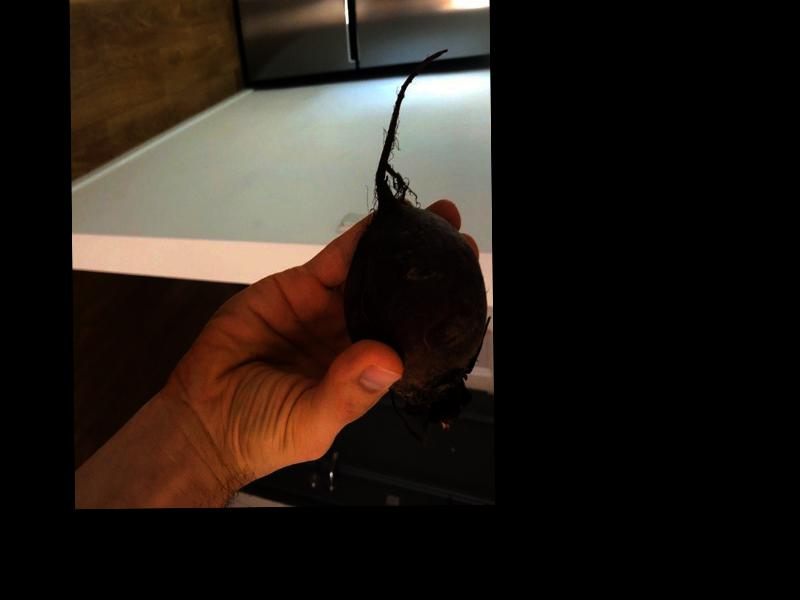Beet: (344, 50, 491, 443)
